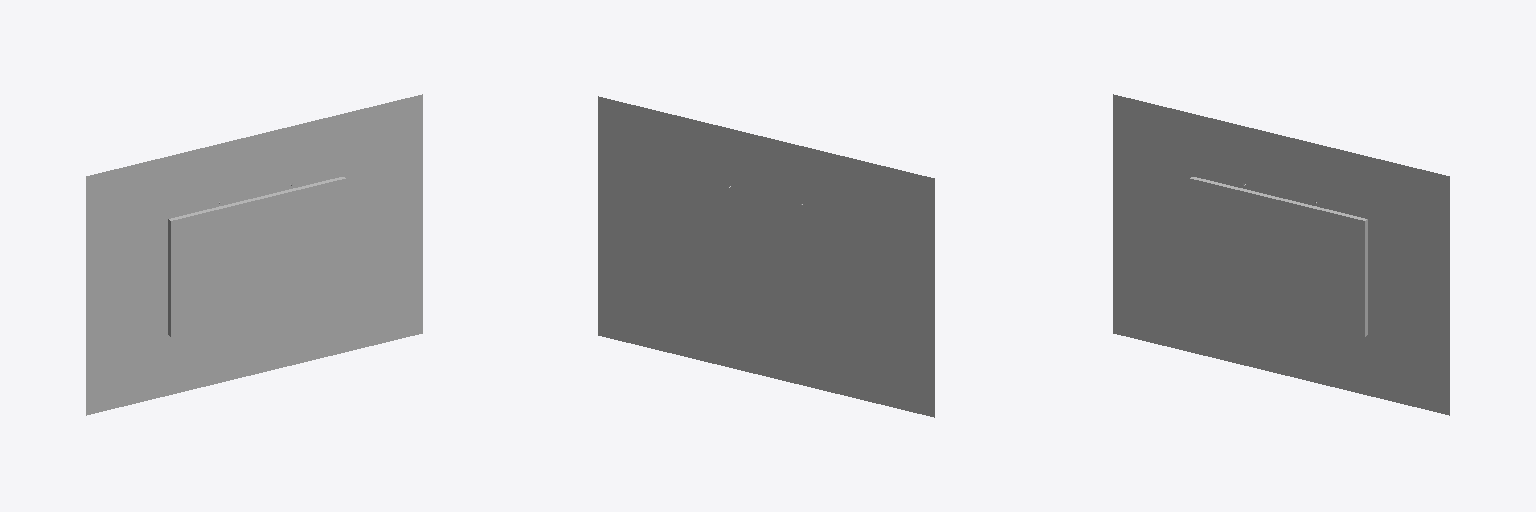
File: CorkBoard.obj
3 renders of one model, left to right at view 1: azimuth 30°, elevation 25°; view 2: azimuth 150°, elevation 25°; view 3: azimuth 330°, elevation 25°, orthographic.
Parts seen in each view (by area): view 1: Plane.001, Cube; view 2: Plane.001; view 3: Plane.001, Cube.
Part boxes in pixels (x1,y1,x2,y2): Plane.001: (86, 94, 422, 415); Cube: (168, 177, 345, 336); Plane.001: (598, 96, 934, 417); Plane.001: (1113, 94, 1449, 415); Cube: (1190, 177, 1367, 336).
Bounding box in the file's own units: 7.03 × 4.76 × 0.1751.